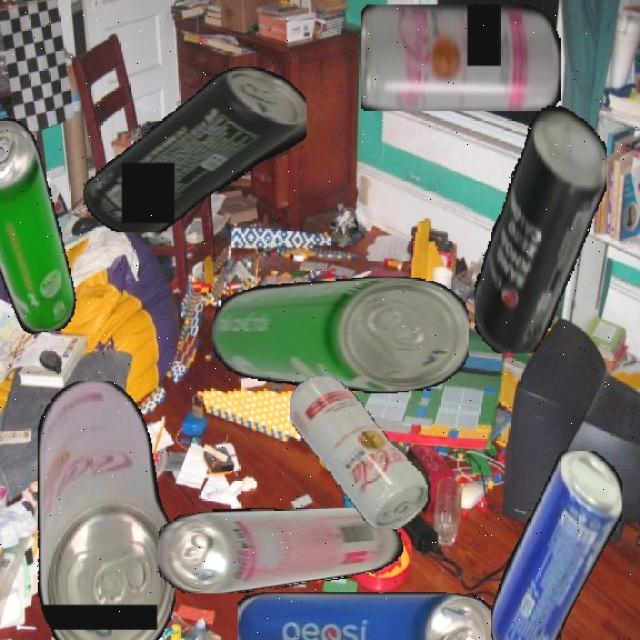debris: (83, 66, 307, 232), (36, 379, 176, 640), (473, 98, 607, 353), (211, 277, 469, 393), (490, 449, 622, 640), (359, 3, 560, 111), (158, 507, 408, 593), (290, 375, 428, 529), (0, 112, 80, 340), (237, 592, 499, 640)
